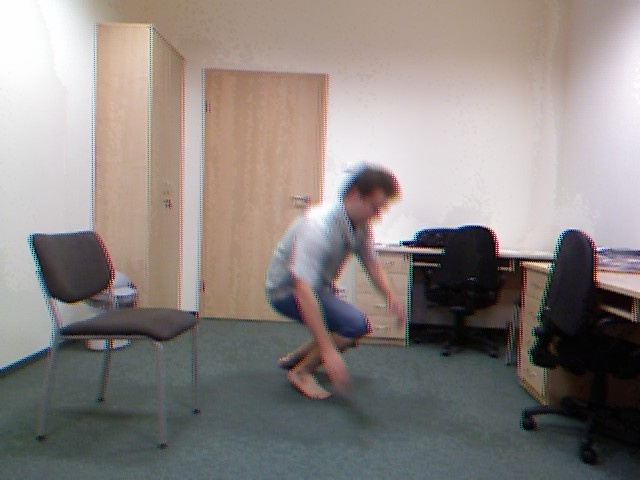fall: (258, 153, 422, 411)
